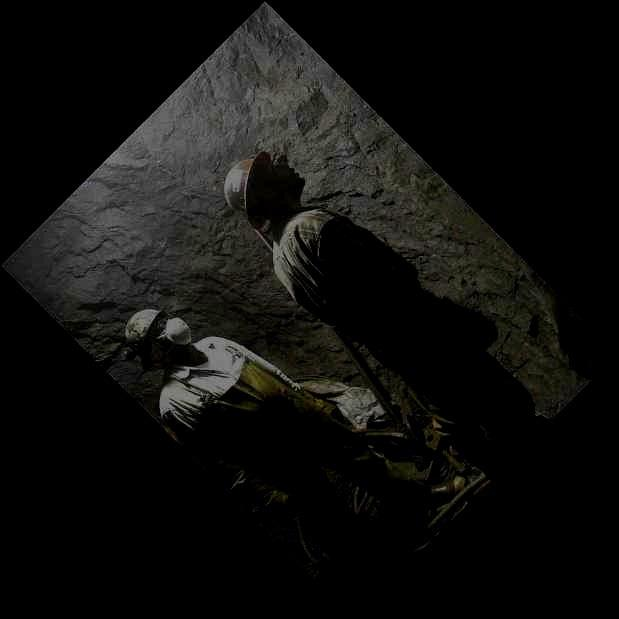helmet: (223, 151, 305, 230), (124, 305, 191, 359)
